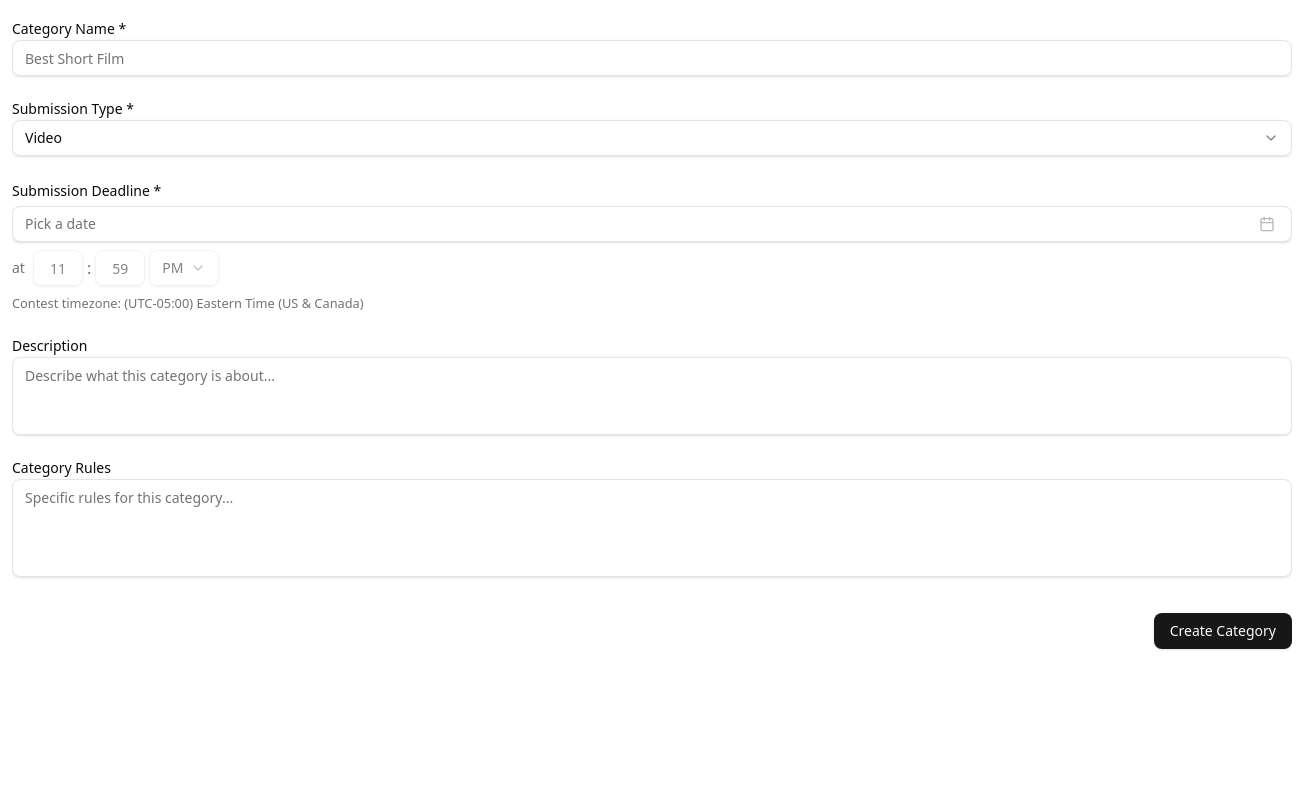
Test: CreateCategoryForm › shows validation error for empty name
Click the button "Create Category".
click(1223, 631)  # box [1154,613,1292,649]
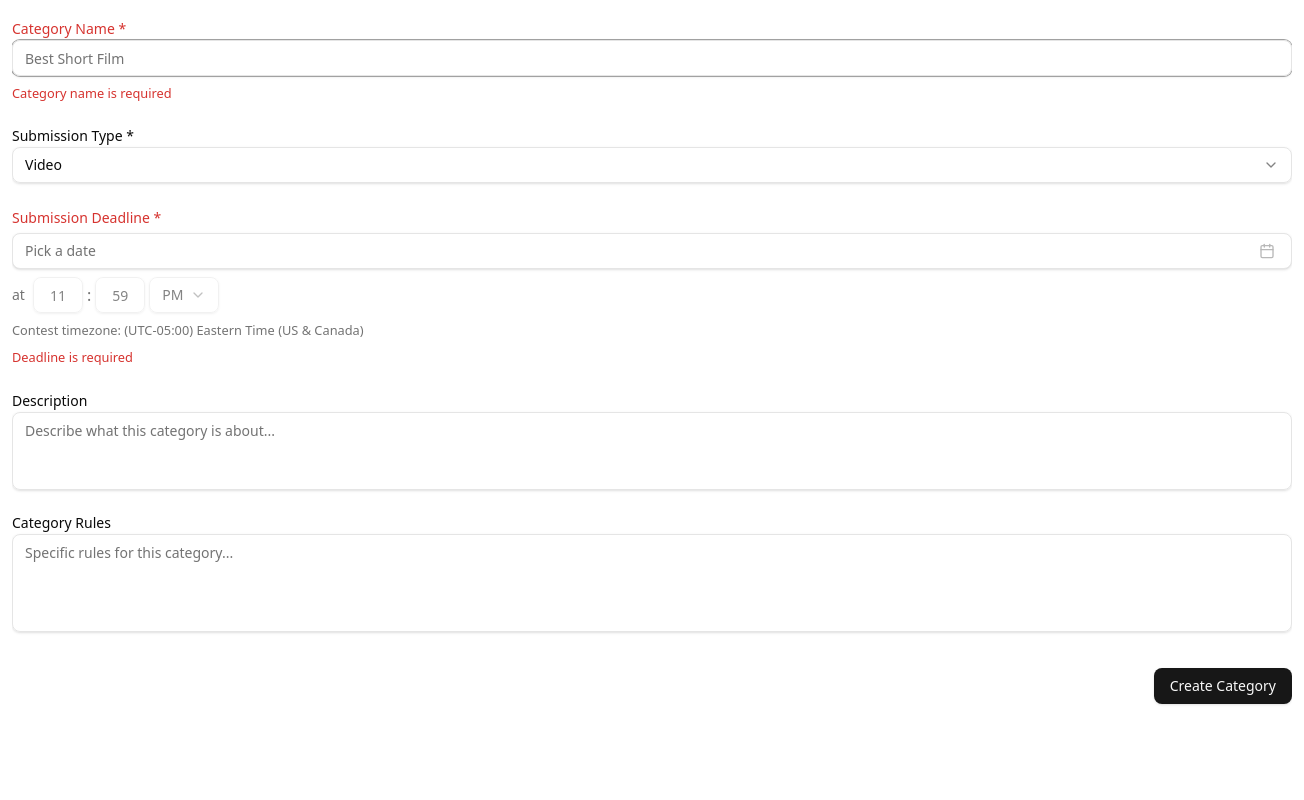
Now the text "Category name is required" is shown, box [12,84,172,102]
